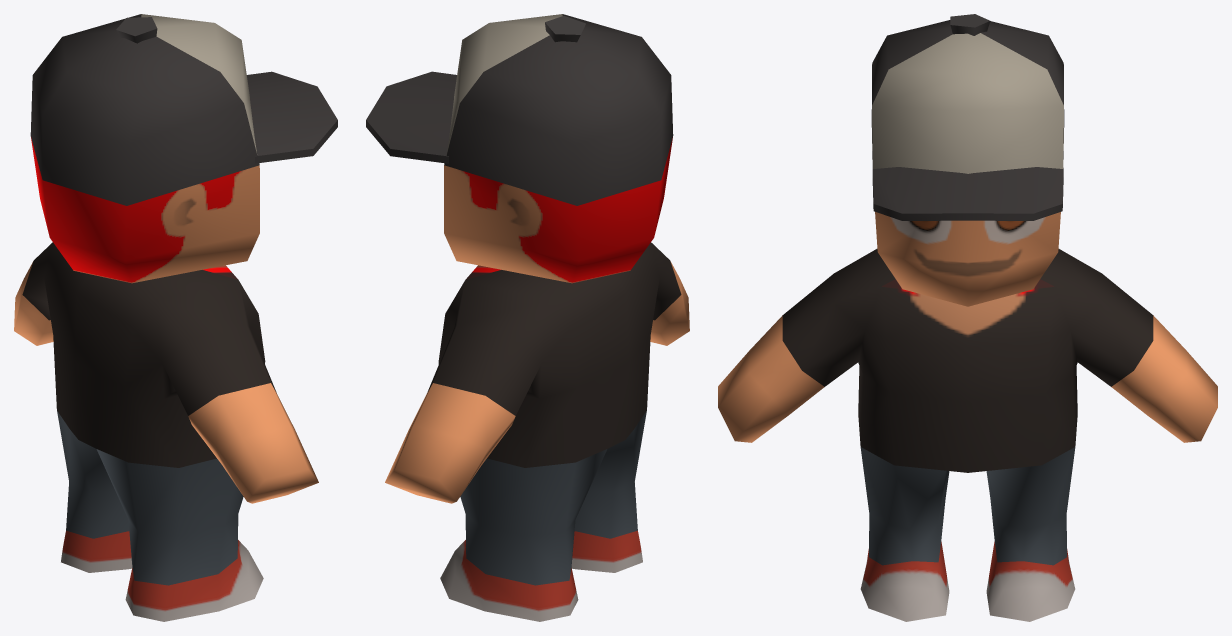
File: ManWithCap.fbx
3 renders of one model, left to right at view 1: azimuth 30°, elevation 25°; view 2: azimuth 150°, elevation 25°; view 3: azimuth 270°, elevation 25°, orthographic.
Visible parts, largest first — view 1: head_28_cap_A; view 2: head_28_cap_A; view 3: head_28_cap_A.
Part boxes in pixels (x1,y1,x2,y2): head_28_cap_A: (14, 14, 337, 621); head_28_cap_A: (366, 14, 689, 621); head_28_cap_A: (718, 14, 1217, 621).
Bounding box in the file's own units: 17.63 × 34.02 × 27.7.
